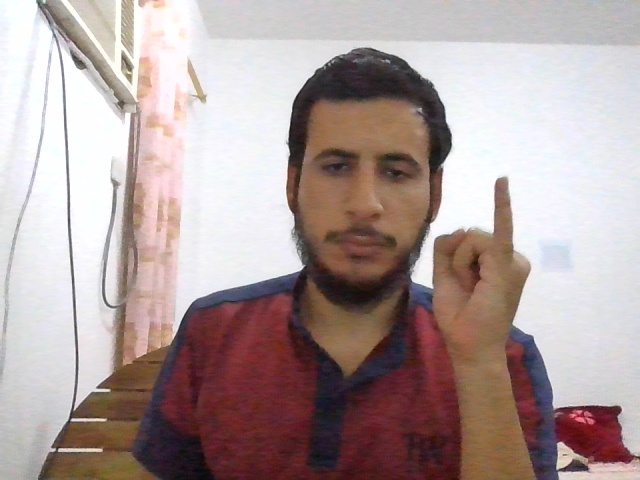One: (433, 176, 531, 345)
